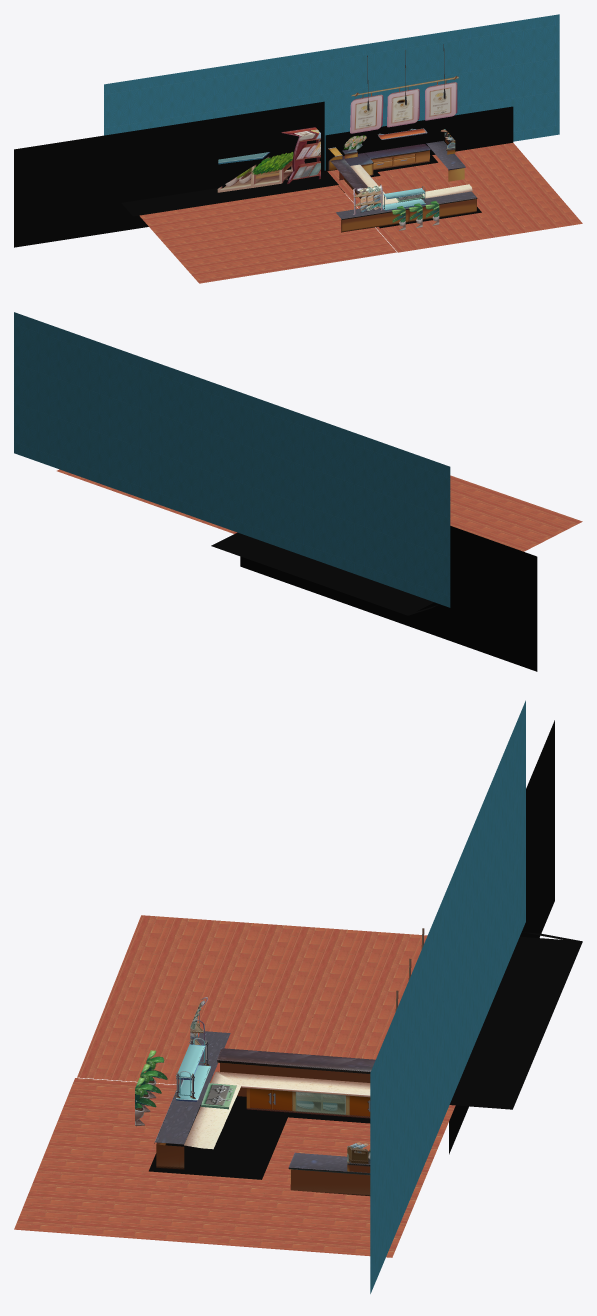
3 renders of one model, top to bottom at view 1: azimuth 30°, elevation 25°; view 2: azimuth 150°, elevation 25°; view 3: azimuth 270°, elevation 25°, orthographic. The views are drawn at different scales.
Visible parts, largest first — view 1: C2_yinying, C2_wall, C2_floor1, C2_floor2, C2_sundries, C2_1, C2_replace; view 2: C2_wall, C2_yinying, C2_floor1, C2_floor2; view 3: C2_floor1, C2_floor2, C2_wall, C2_yinying, C2_1, C2_sundries.
Boxes of the visible parts, x1,y1,x2,y2 form: C2_yinying: (14,101,513,247); C2_wall: (104,14,559,170); C2_floor1: (139,185,396,283); C2_floor2: (327,143,582,252); C2_sundries: (217,44,458,230); C2_1: (328,128,477,232); C2_replace: (342,135,366,158); C2_wall: (14,312,450,607); C2_yinying: (211,526,537,671); C2_floor1: (450,475,582,551); C2_floor2: (57,469,237,533); C2_floor1: (77,915,427,1084); C2_floor2: (14,1078,455,1257); C2_wall: (370,700,525,1293); C2_yinying: (149,720,582,1179); C2_1: (154,997,375,1195); C2_sundries: (135,928,424,1126).
Size of the model in its own units: 932 by 268 by 502.
Materials: 4 (4 with a texture image).
